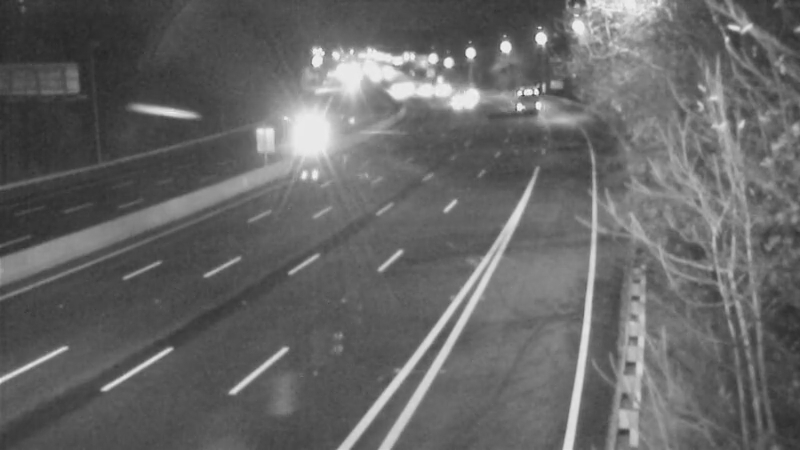vehicle: (504, 73, 554, 123), (435, 76, 485, 126), (283, 109, 333, 159)
